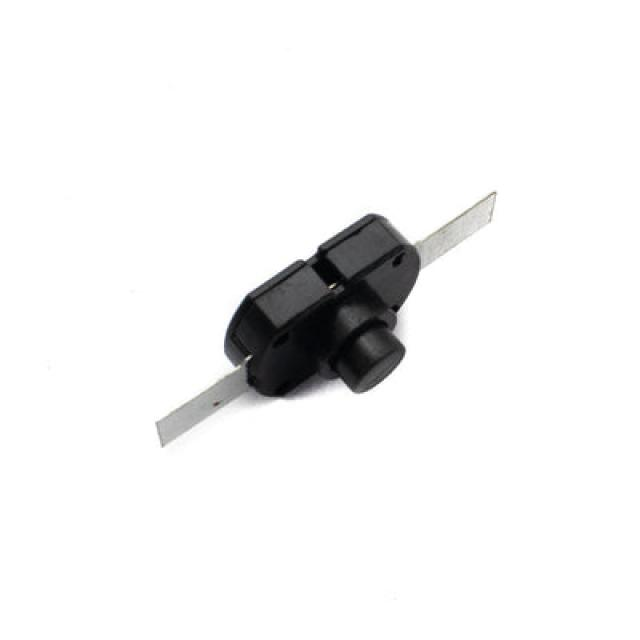Push button: (162, 194, 496, 442)
